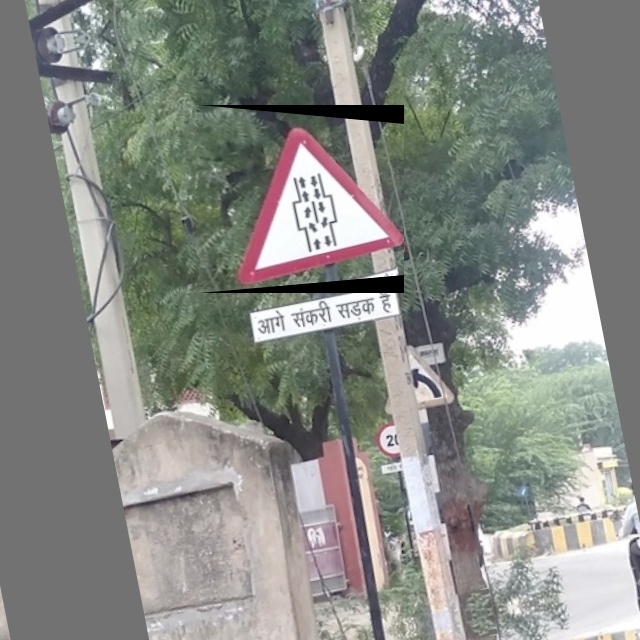Narrow_Road_Ahead: (199, 105, 404, 293)
